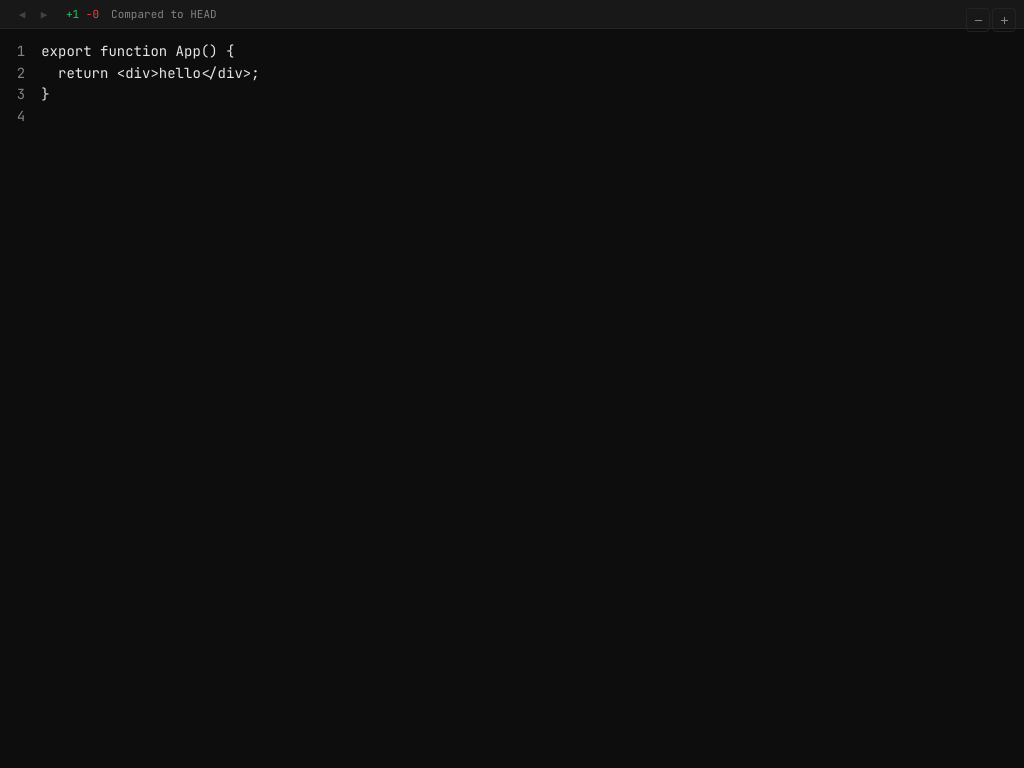
Scenario: FilePreviewPane — 5.T3 (git gutter marks on modified files) › Bug 7: CodeView picker state survives the gutter poll's re-render (equal lspFileRef)
Click the text with class "workspace-code-content" showing "export function App() {".
click(138, 51)  # box top-left (41, 42), bottom-right (234, 60)
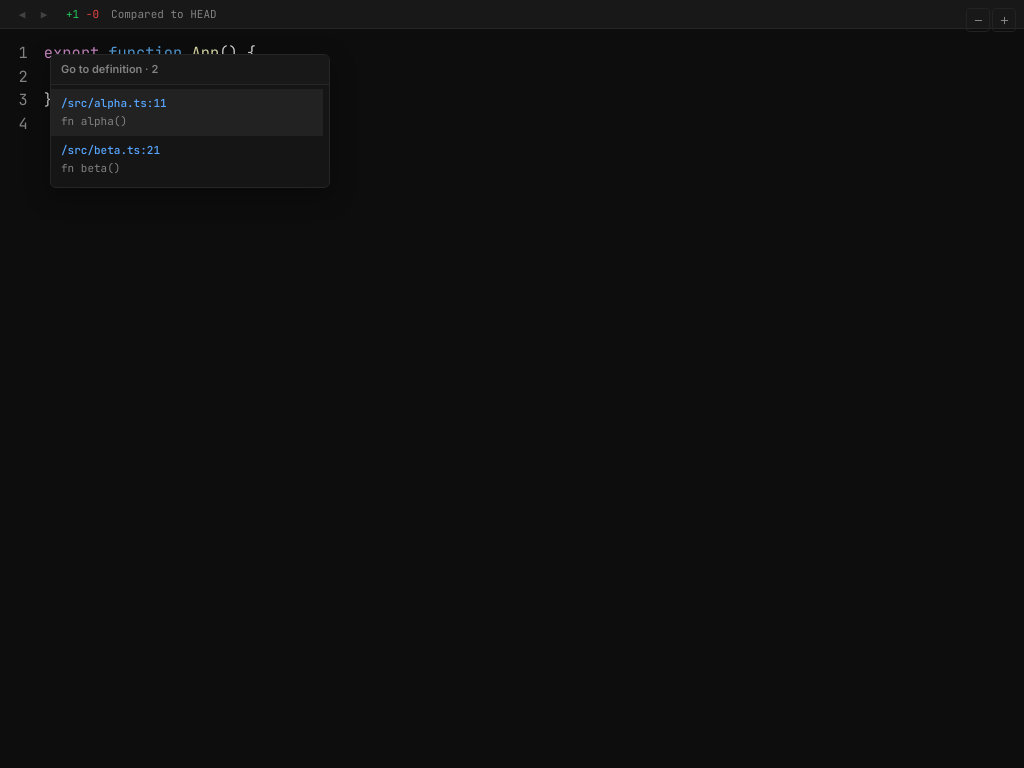
expect the dialog "Go to definition" is shown: met, box top-left (50, 54), bottom-right (330, 188)
expect the text "/src/alpha.ts:11" is shown: met, box top-left (61, 94), bottom-right (167, 111)
expect the text "/src/beta.ts:21" is shown: met, box top-left (61, 142), bottom-right (160, 158)
